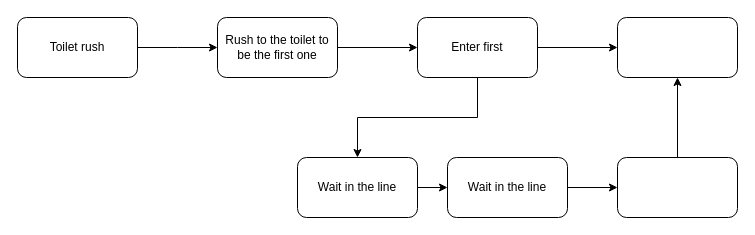
Some shapes in this 755 by 235 pixel diagram are drawn without their labels. The shapes that lost their labels are listed below. From the top down, each one's centre as x and y in pixels, then its label:
At pixel 677 47: "End of scenario".
At pixel 677 187: "Enter the bathroom".
